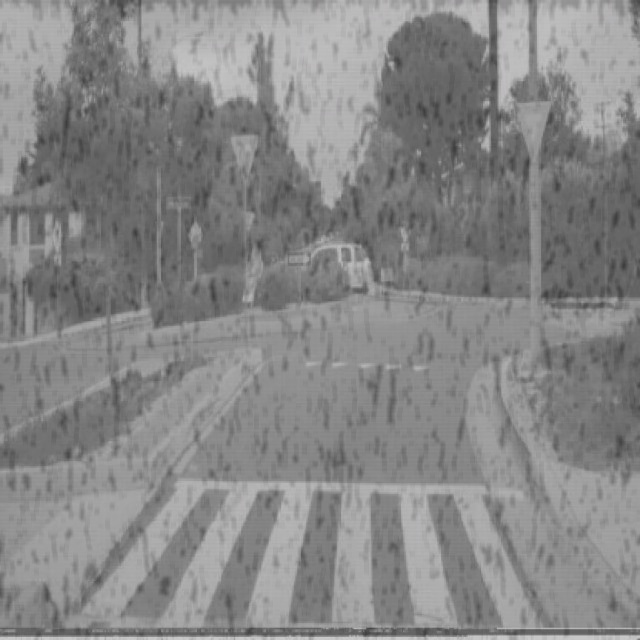yield: (515, 99, 551, 163), (231, 132, 259, 186)
